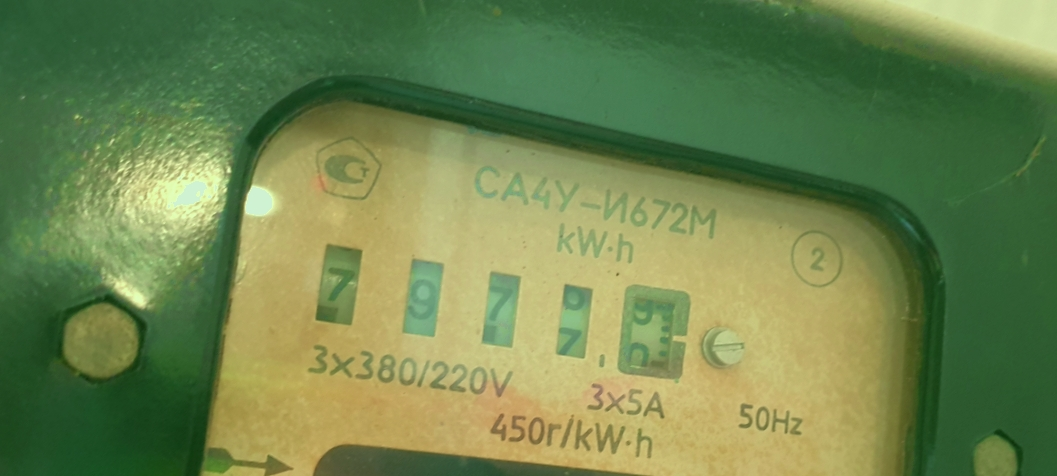0: (623, 336, 649, 367)
7: (318, 259, 356, 307), (551, 316, 585, 360), (482, 280, 515, 324)
9: (402, 272, 438, 322), (626, 292, 659, 327)
screen: (297, 228, 708, 394)
